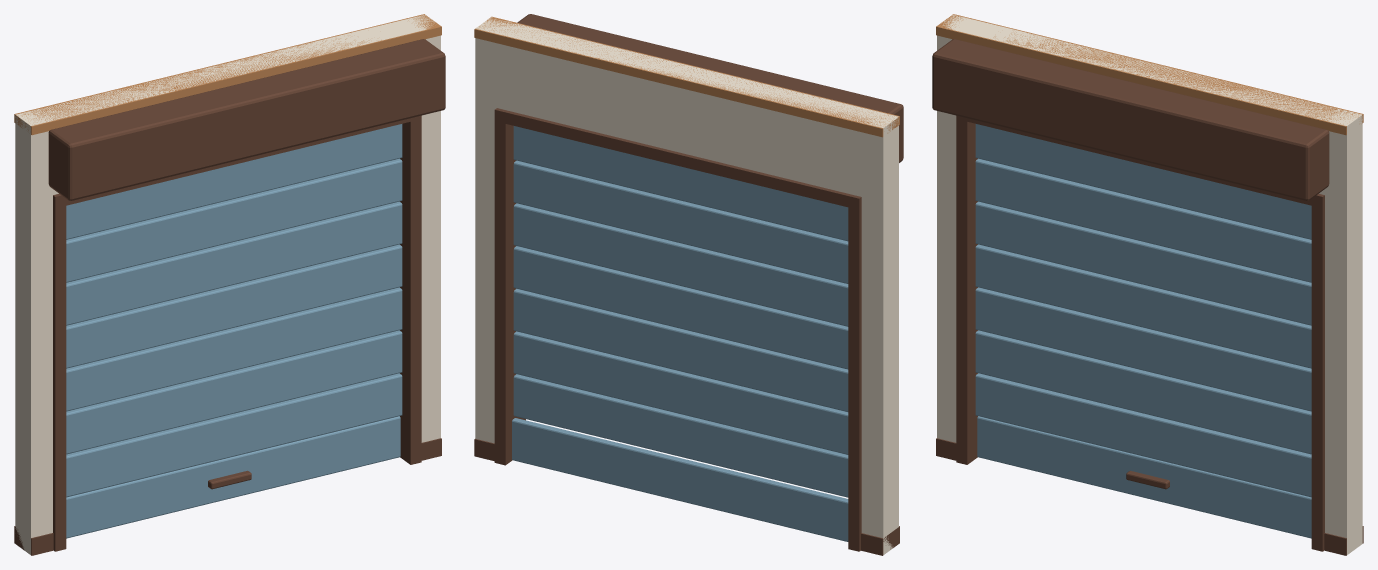
The model's file is wall_garage_3m.glb.
3 renders of one model, left to right at view 1: azimuth 30°, elevation 25°; view 2: azimuth 150°, elevation 25°; view 3: azimuth 330°, elevation 25°, orthographic.
Parts seen in each view (by area): view 1: Wall, RollerHousing, Slat_1, Slat_2, Slat_3, Slat_5, Slat_6, Slat_4, Slat_0, Slat_7; view 2: Wall, Slat_0, Slat_5, Slat_6, Slat_1, Slat_2, Slat_3, Slat_4, Slat_7, RollerHousing; view 3: Wall, RollerHousing, Slat_1, Slat_2, Slat_3, Slat_5, Slat_6, Slat_4, Slat_0, Slat_7.
Part boxes in pixels (box(x1,y1,x2,y2)): Wall: box(14, 14, 441, 555); RollerHousing: box(48, 39, 445, 200); Slat_1: box(66, 373, 402, 497); Slat_2: box(66, 330, 402, 454); Slat_3: box(66, 287, 402, 411); Slat_5: box(66, 201, 402, 325); Slat_6: box(66, 158, 402, 282); Slat_4: box(66, 244, 402, 368); Slat_0: box(66, 416, 400, 538); Slat_7: box(66, 124, 402, 239); Wall: box(474, 16, 899, 555); Slat_0: box(512, 418, 848, 541); Slat_5: box(513, 203, 848, 326); Slat_6: box(513, 160, 848, 283); Slat_1: box(513, 374, 848, 497); Slat_2: box(513, 331, 848, 454); Slat_3: box(513, 288, 848, 411); Slat_4: box(513, 246, 848, 369); Slat_7: box(513, 126, 848, 241); RollerHousing: box(517, 14, 903, 162); Wall: box(936, 14, 1363, 555); RollerHousing: box(932, 39, 1329, 200); Slat_1: box(975, 373, 1311, 497); Slat_2: box(975, 330, 1311, 454); Slat_3: box(975, 287, 1311, 411); Slat_5: box(975, 201, 1311, 325); Slat_6: box(975, 158, 1311, 282); Slat_4: box(975, 244, 1311, 368); Slat_0: box(977, 416, 1311, 538); Slat_7: box(975, 124, 1311, 239).
Bounding box in the file's own units: 3 × 3 × 0.51.
